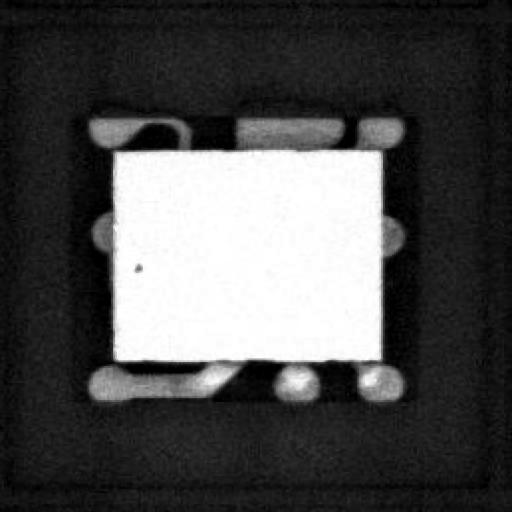DIE_INK: (122, 270, 136, 286)
